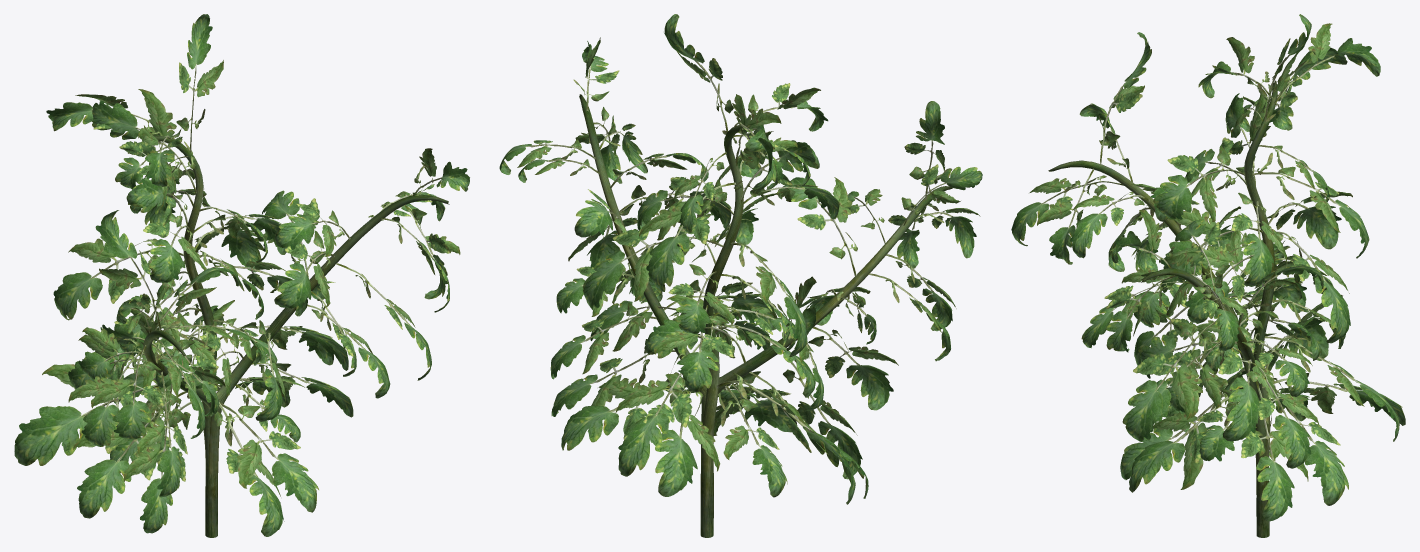
File: tomatoPlant02.fbx
3 renders of one model, left to right at view 1: azimuth 30°, elevation 25°; view 2: azimuth 150°, elevation 25°; view 3: azimuth 270°, elevation 25°, orthographic. The views are drawn at different scales.
Visible parts, largest first — view 1: Tomat3_Stvol; view 2: Tomat3_Stvol; view 3: Tomat3_Stvol.
Part boxes in pixels (x1,y1,x2,y2): Tomat3_Stvol: (14,14,469,537); Tomat3_Stvol: (499,14,982,537); Tomat3_Stvol: (1011,14,1405,537).
Bounding box in the file's own units: 7595 × 9253 × 6284.
